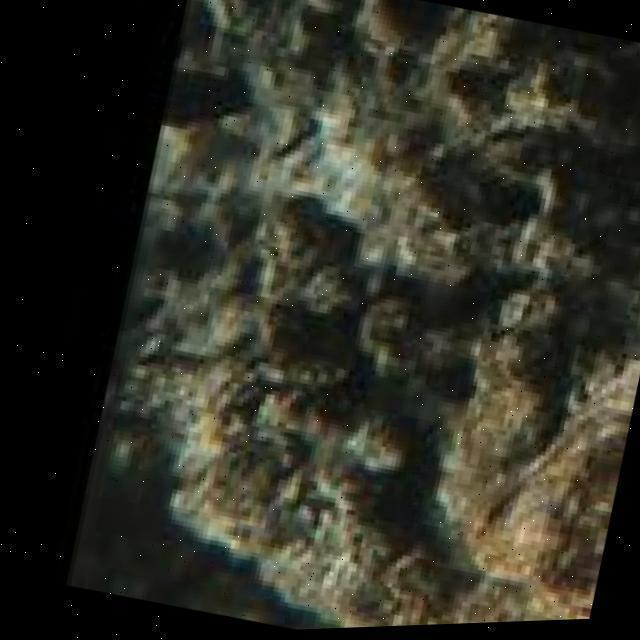Dead Coral: (61, 0, 640, 638)
